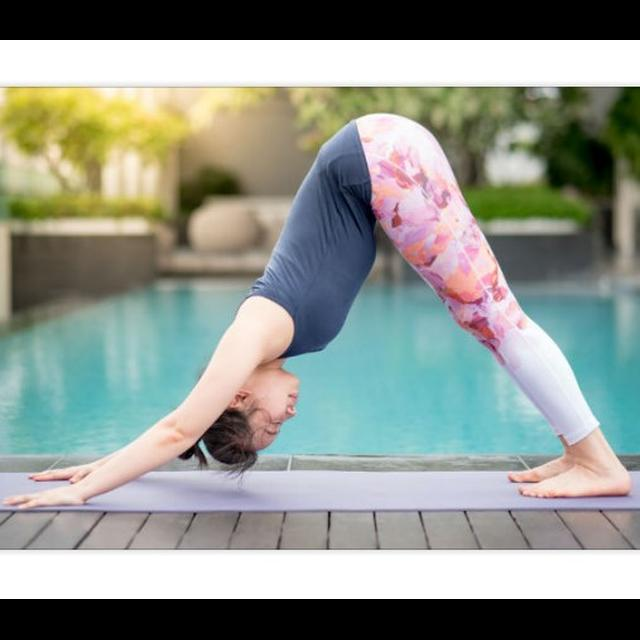Downward-Facing_Dog: (1, 105, 630, 513)
